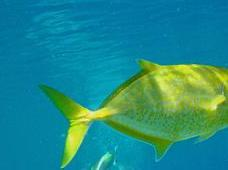Carangidae -Jacks-: (36, 56, 228, 170)
